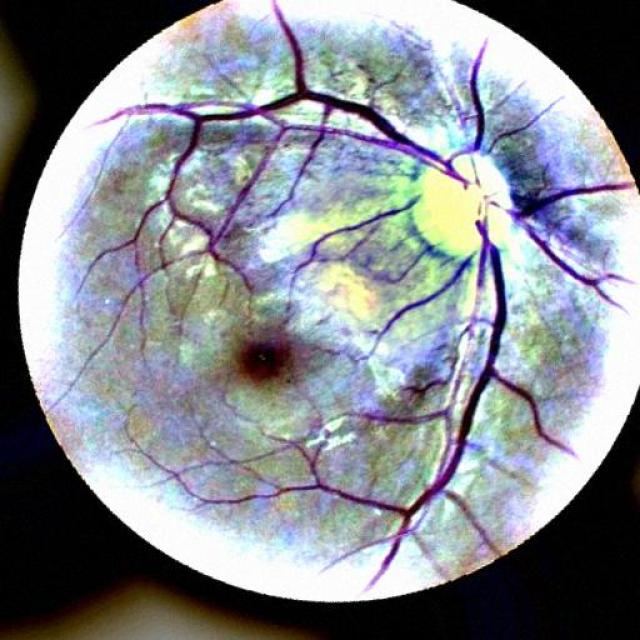Macula: (238, 342, 289, 381)
